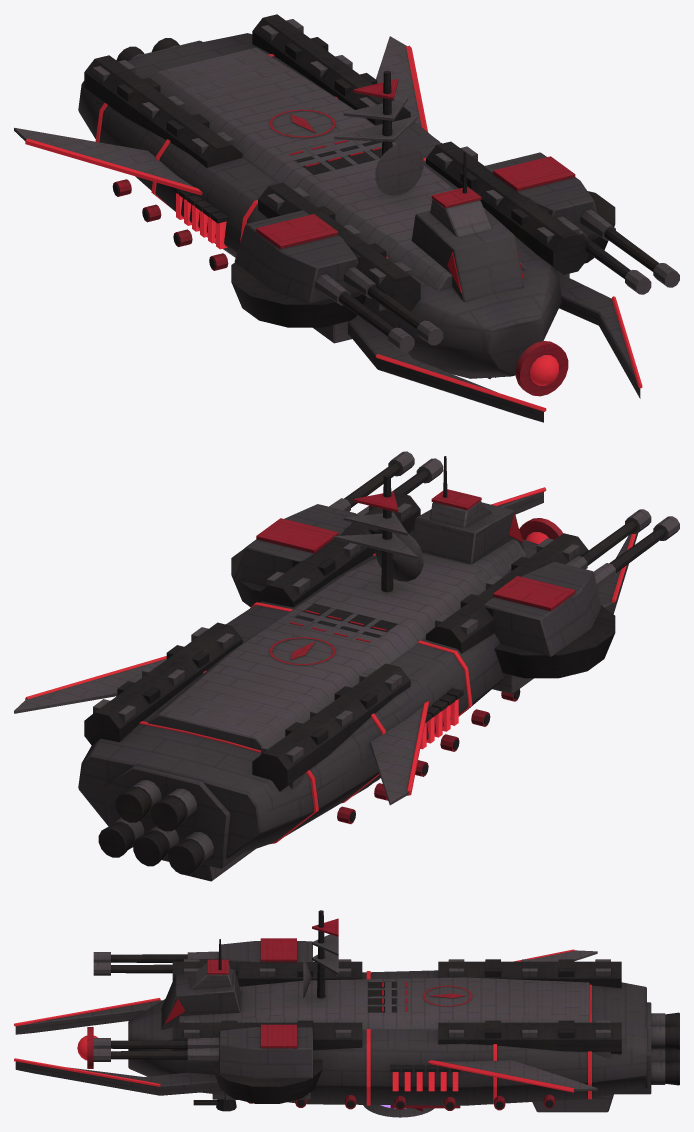
Rendered from vorrakai_destroyer.glb.
The picture shows the model from 3 angles, top to bottom: view 1: azimuth 30°, elevation 25°; view 2: azimuth 150°, elevation 25°; view 3: azimuth 270°, elevation 25°; orthographic projection. The views are drawn at different scales.
Visible parts, largest first — view 1: HULL, SYS_WPN2, SYS_BUS_A, SYS_BUS_F, SYS_BRIDGE, SYS_WPN1, SYS_SENSORS, SYS_REACTOR, SYS_MSL, SYS_DRIVE; view 2: HULL, SYS_WPN2, SYS_BUS_A, SYS_DRIVE, SYS_BUS_F, SYS_WPN1, SYS_BRIDGE, SYS_SENSORS, SYS_REACTOR, SYS_MSL; view 3: HULL, SYS_WPN1, SYS_BUS_A, SYS_BUS_F, SYS_WPN2, SYS_BRIDGE, SYS_DRIVE, SYS_SENSORS, SYS_REACTOR, SYS_JUMP, SYS_MSL, SYS_DAMP (+1 smaller).
Part boxes in pixels (bbox=[...]): HULL: bbox=[14, 33, 642, 422]; SYS_WPN2: bbox=[231, 210, 443, 352]; SYS_BUS_A: bbox=[84, 14, 410, 167]; SYS_BUS_F: bbox=[258, 141, 588, 315]; SYS_BRIDGE: bbox=[411, 151, 523, 302]; SYS_WPN1: bbox=[483, 152, 679, 294]; SYS_SENSORS: bbox=[334, 70, 423, 195]; SYS_REACTOR: bbox=[171, 138, 441, 249]; SYS_MSL: bbox=[289, 140, 381, 174]; SYS_DRIVE: bbox=[116, 38, 202, 61]; HULL: bbox=[14, 487, 638, 861]; SYS_WPN2: bbox=[483, 509, 679, 693]; SYS_BUS_A: bbox=[84, 622, 410, 791]; SYS_DRIVE: bbox=[98, 765, 241, 874]; SYS_BUS_F: bbox=[258, 492, 588, 653]; SYS_WPN1: bbox=[231, 451, 443, 607]; SYS_BRIDGE: bbox=[413, 456, 523, 564]; SYS_SENSORS: bbox=[334, 474, 423, 592]; SYS_REACTOR: bbox=[420, 688, 463, 749]; SYS_MSL: bbox=[289, 603, 397, 642]; HULL: bbox=[14, 949, 646, 1110]; SYS_WPN1: bbox=[93, 1024, 322, 1103]; SYS_BUS_A: bbox=[438, 959, 621, 1057]; SYS_BUS_F: bbox=[172, 959, 362, 1050]; SYS_WPN2: bbox=[93, 938, 312, 975]; SYS_BRIDGE: bbox=[161, 939, 240, 1029]; SYS_DRIVE: bbox=[616, 1002, 679, 1094]; SYS_SENSORS: bbox=[303, 910, 338, 998]; SYS_REACTOR: bbox=[390, 1064, 460, 1108]; SYS_JUMP: bbox=[532, 1094, 613, 1112]; SYS_MSL: bbox=[368, 982, 407, 1012]; SYS_DAMP: bbox=[363, 1105, 434, 1117].
Bounding box in the file's own units: 24.08 × 15.58 × 48.2.
Materials: 1 (1 with a texture image).
